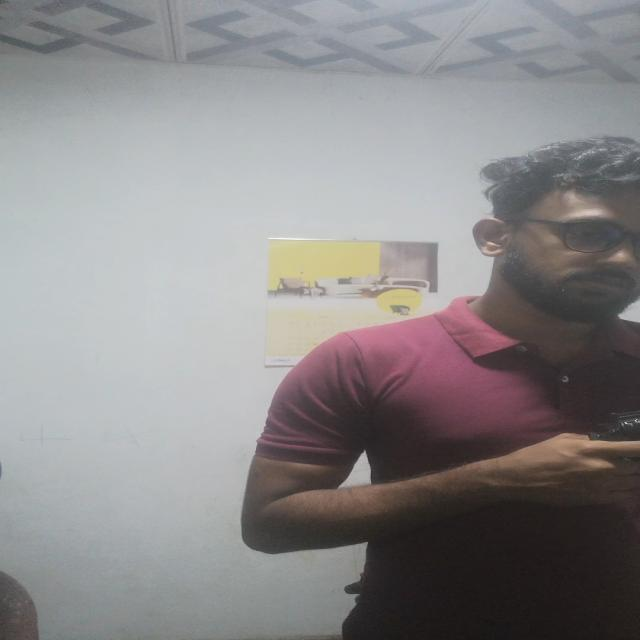Gun_Holder: (563, 399, 640, 494)
Person: (238, 131, 640, 640)
